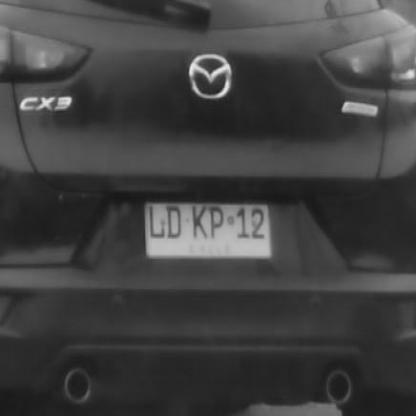Patente: (140, 196, 274, 267)
